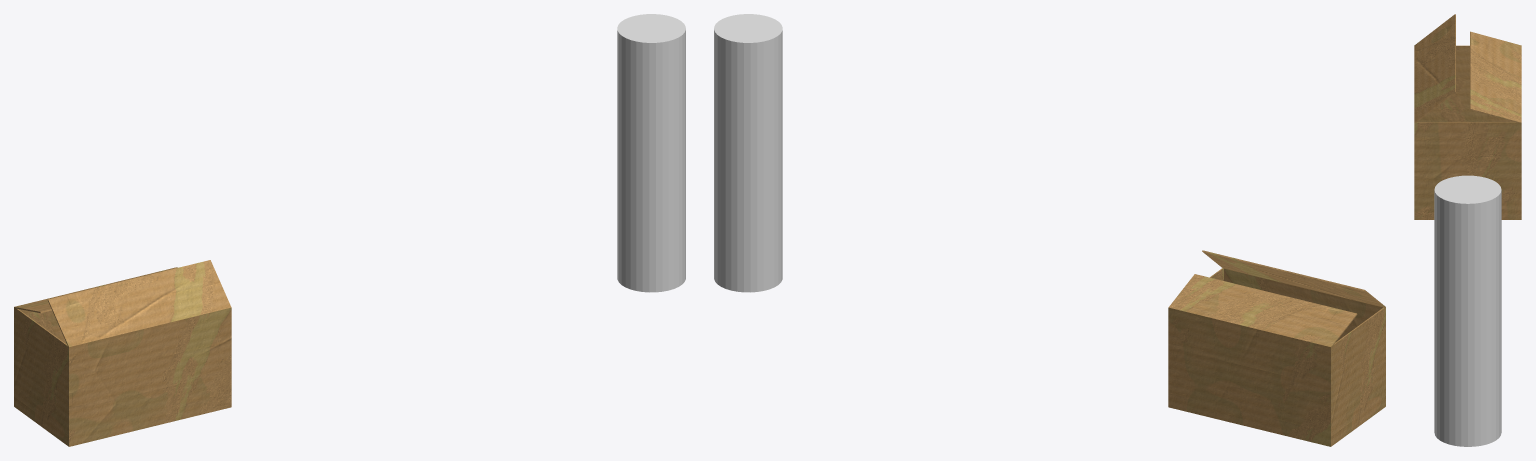
The picture shows the model from 3 angles, left to right: view 1: azimuth 30°, elevation 25°; view 2: azimuth 150°, elevation 25°; view 3: azimuth 270°, elevation 25°; orthographic projection. The views are drawn at different scales.
Parts seen in each view (by area): view 1: Box, Ref-noimp; view 2: Box, Ref-noimp; view 3: Ref-noimp, Box.
Boxes of the visible parts, box(x1,y1,x2,y2) form: Box: box(14, 260, 231, 446); Ref-noimp: box(617, 14, 685, 292); Box: box(1168, 250, 1385, 446); Ref-noimp: box(714, 14, 782, 292); Ref-noimp: box(1434, 175, 1501, 446); Box: box(1414, 14, 1521, 219).
Size of what is drawn, in the model's own units: 5.37 by 2 by 0.8.
Materials: 1 (1 with a texture image).
